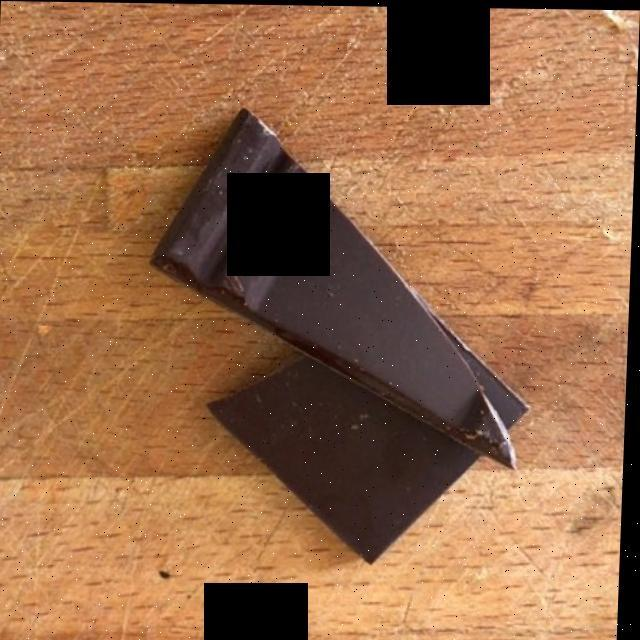chocolate: (150, 106, 525, 556)
